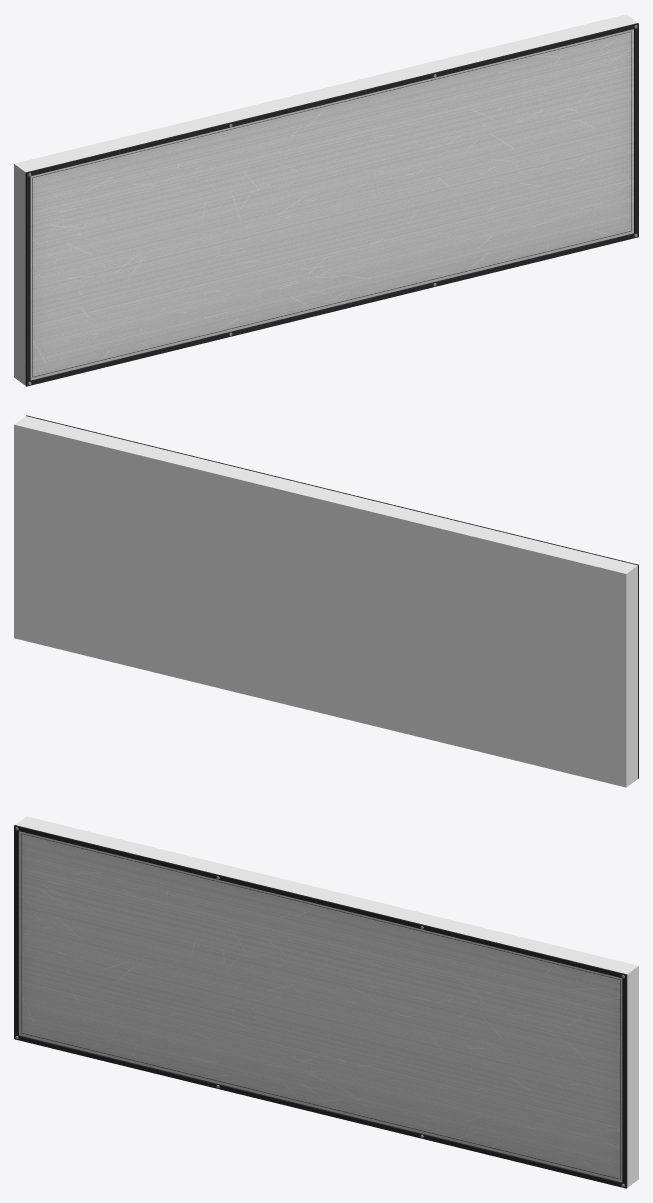
File: instrument_panel.glb
The picture shows the model from 3 angles, top to bottom: view 1: azimuth 30°, elevation 25°; view 2: azimuth 150°, elevation 25°; view 3: azimuth 330°, elevation 25°; orthographic projection.
Visible parts, largest first — view 1: instrument_panel; view 2: instrument_panel; view 3: instrument_panel.
Part boxes in pixels (x1=…): instrument_panel: x1=14, y1=14, x2=638, y2=386; instrument_panel: x1=14, y1=415, x2=638, y2=787; instrument_panel: x1=14, y1=816, x2=638, y2=1188.
Bounding box in the file's own units: 1.2 × 0.4 × 0.0446.
Materials: 4 (1 with a texture image).
